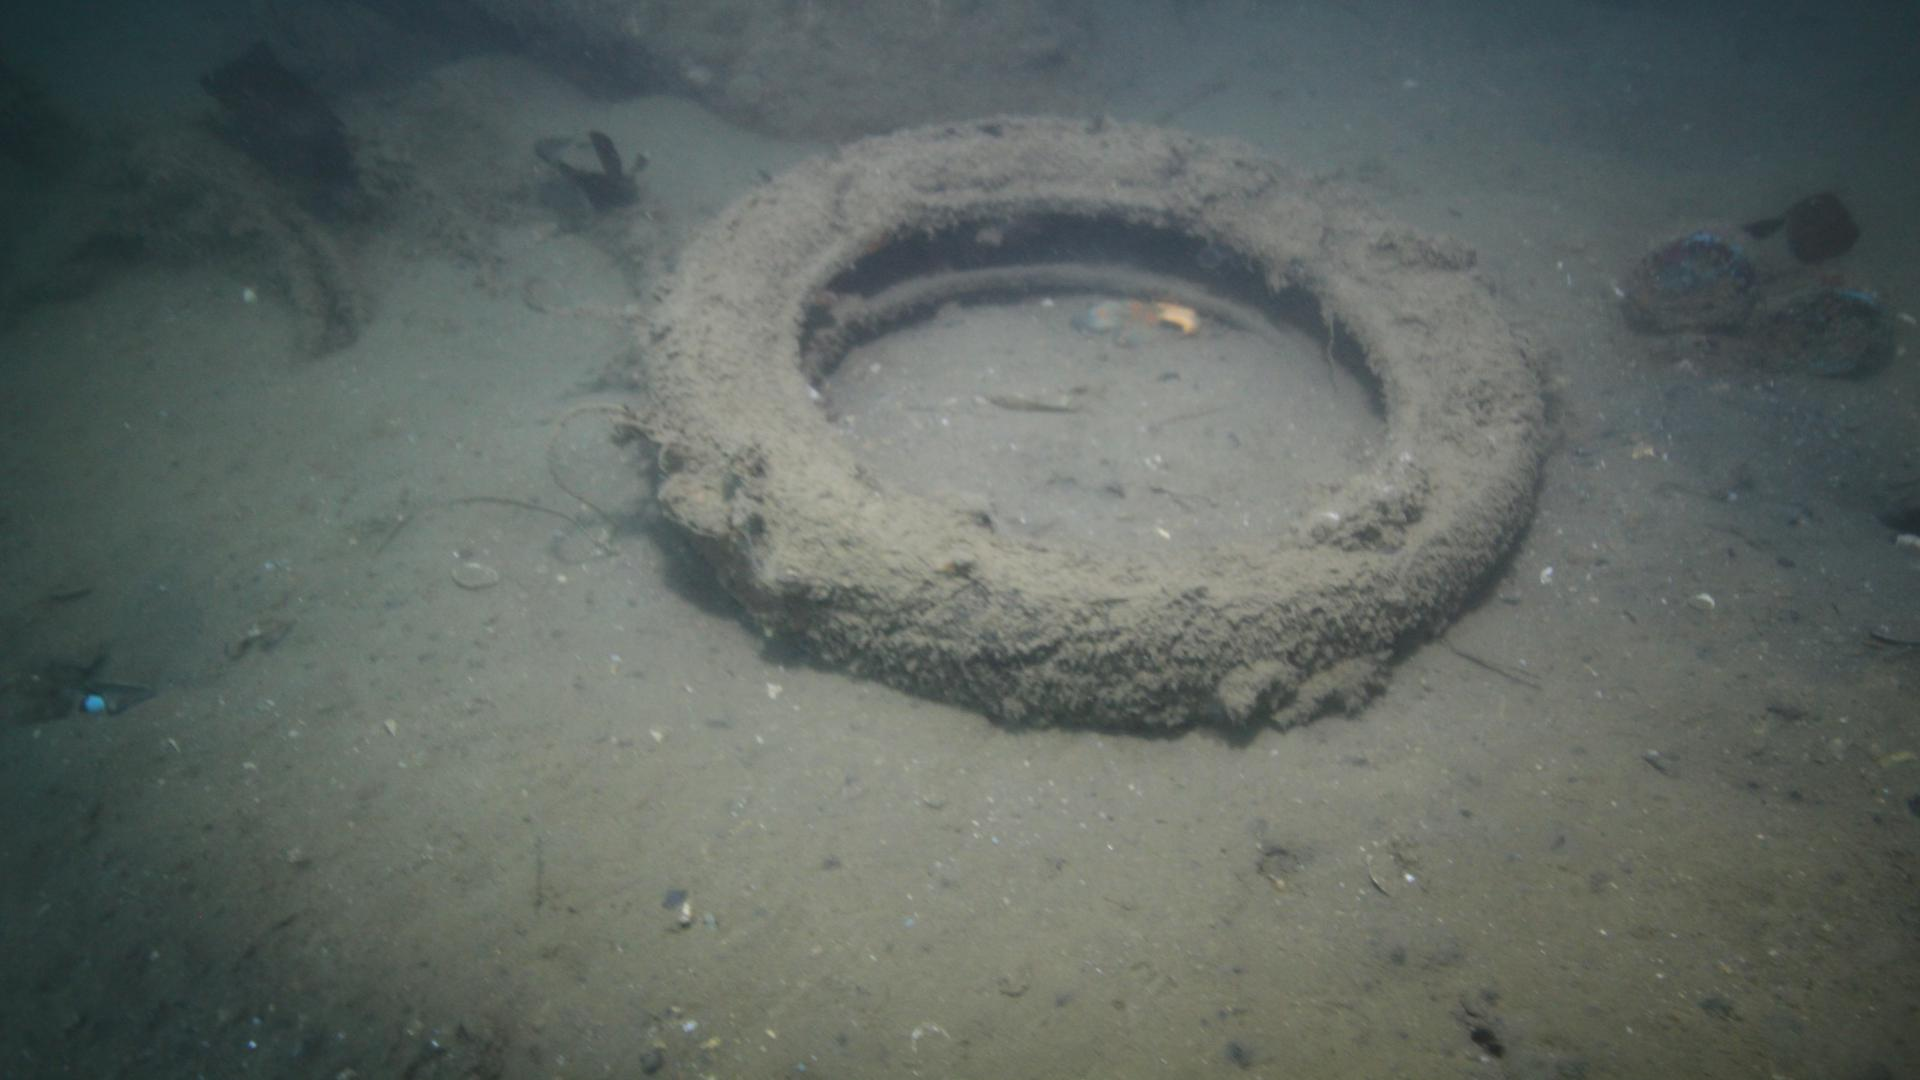tire: (636, 109, 1545, 733)
